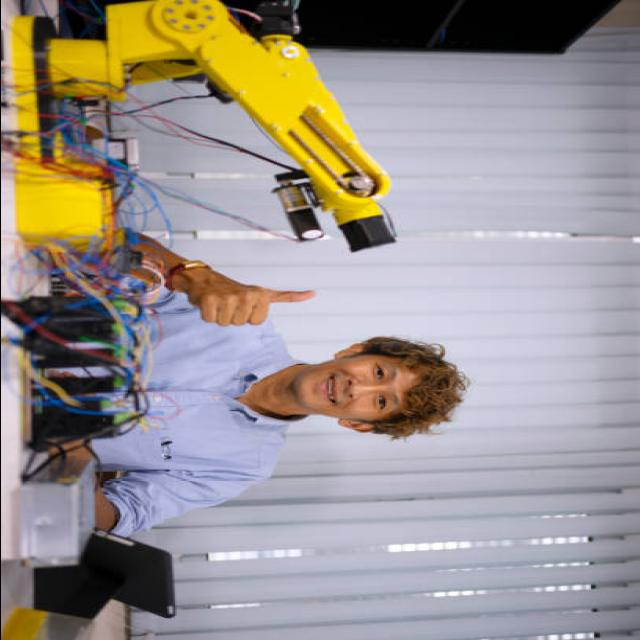Robotic-arm: (1, 0, 402, 259)
